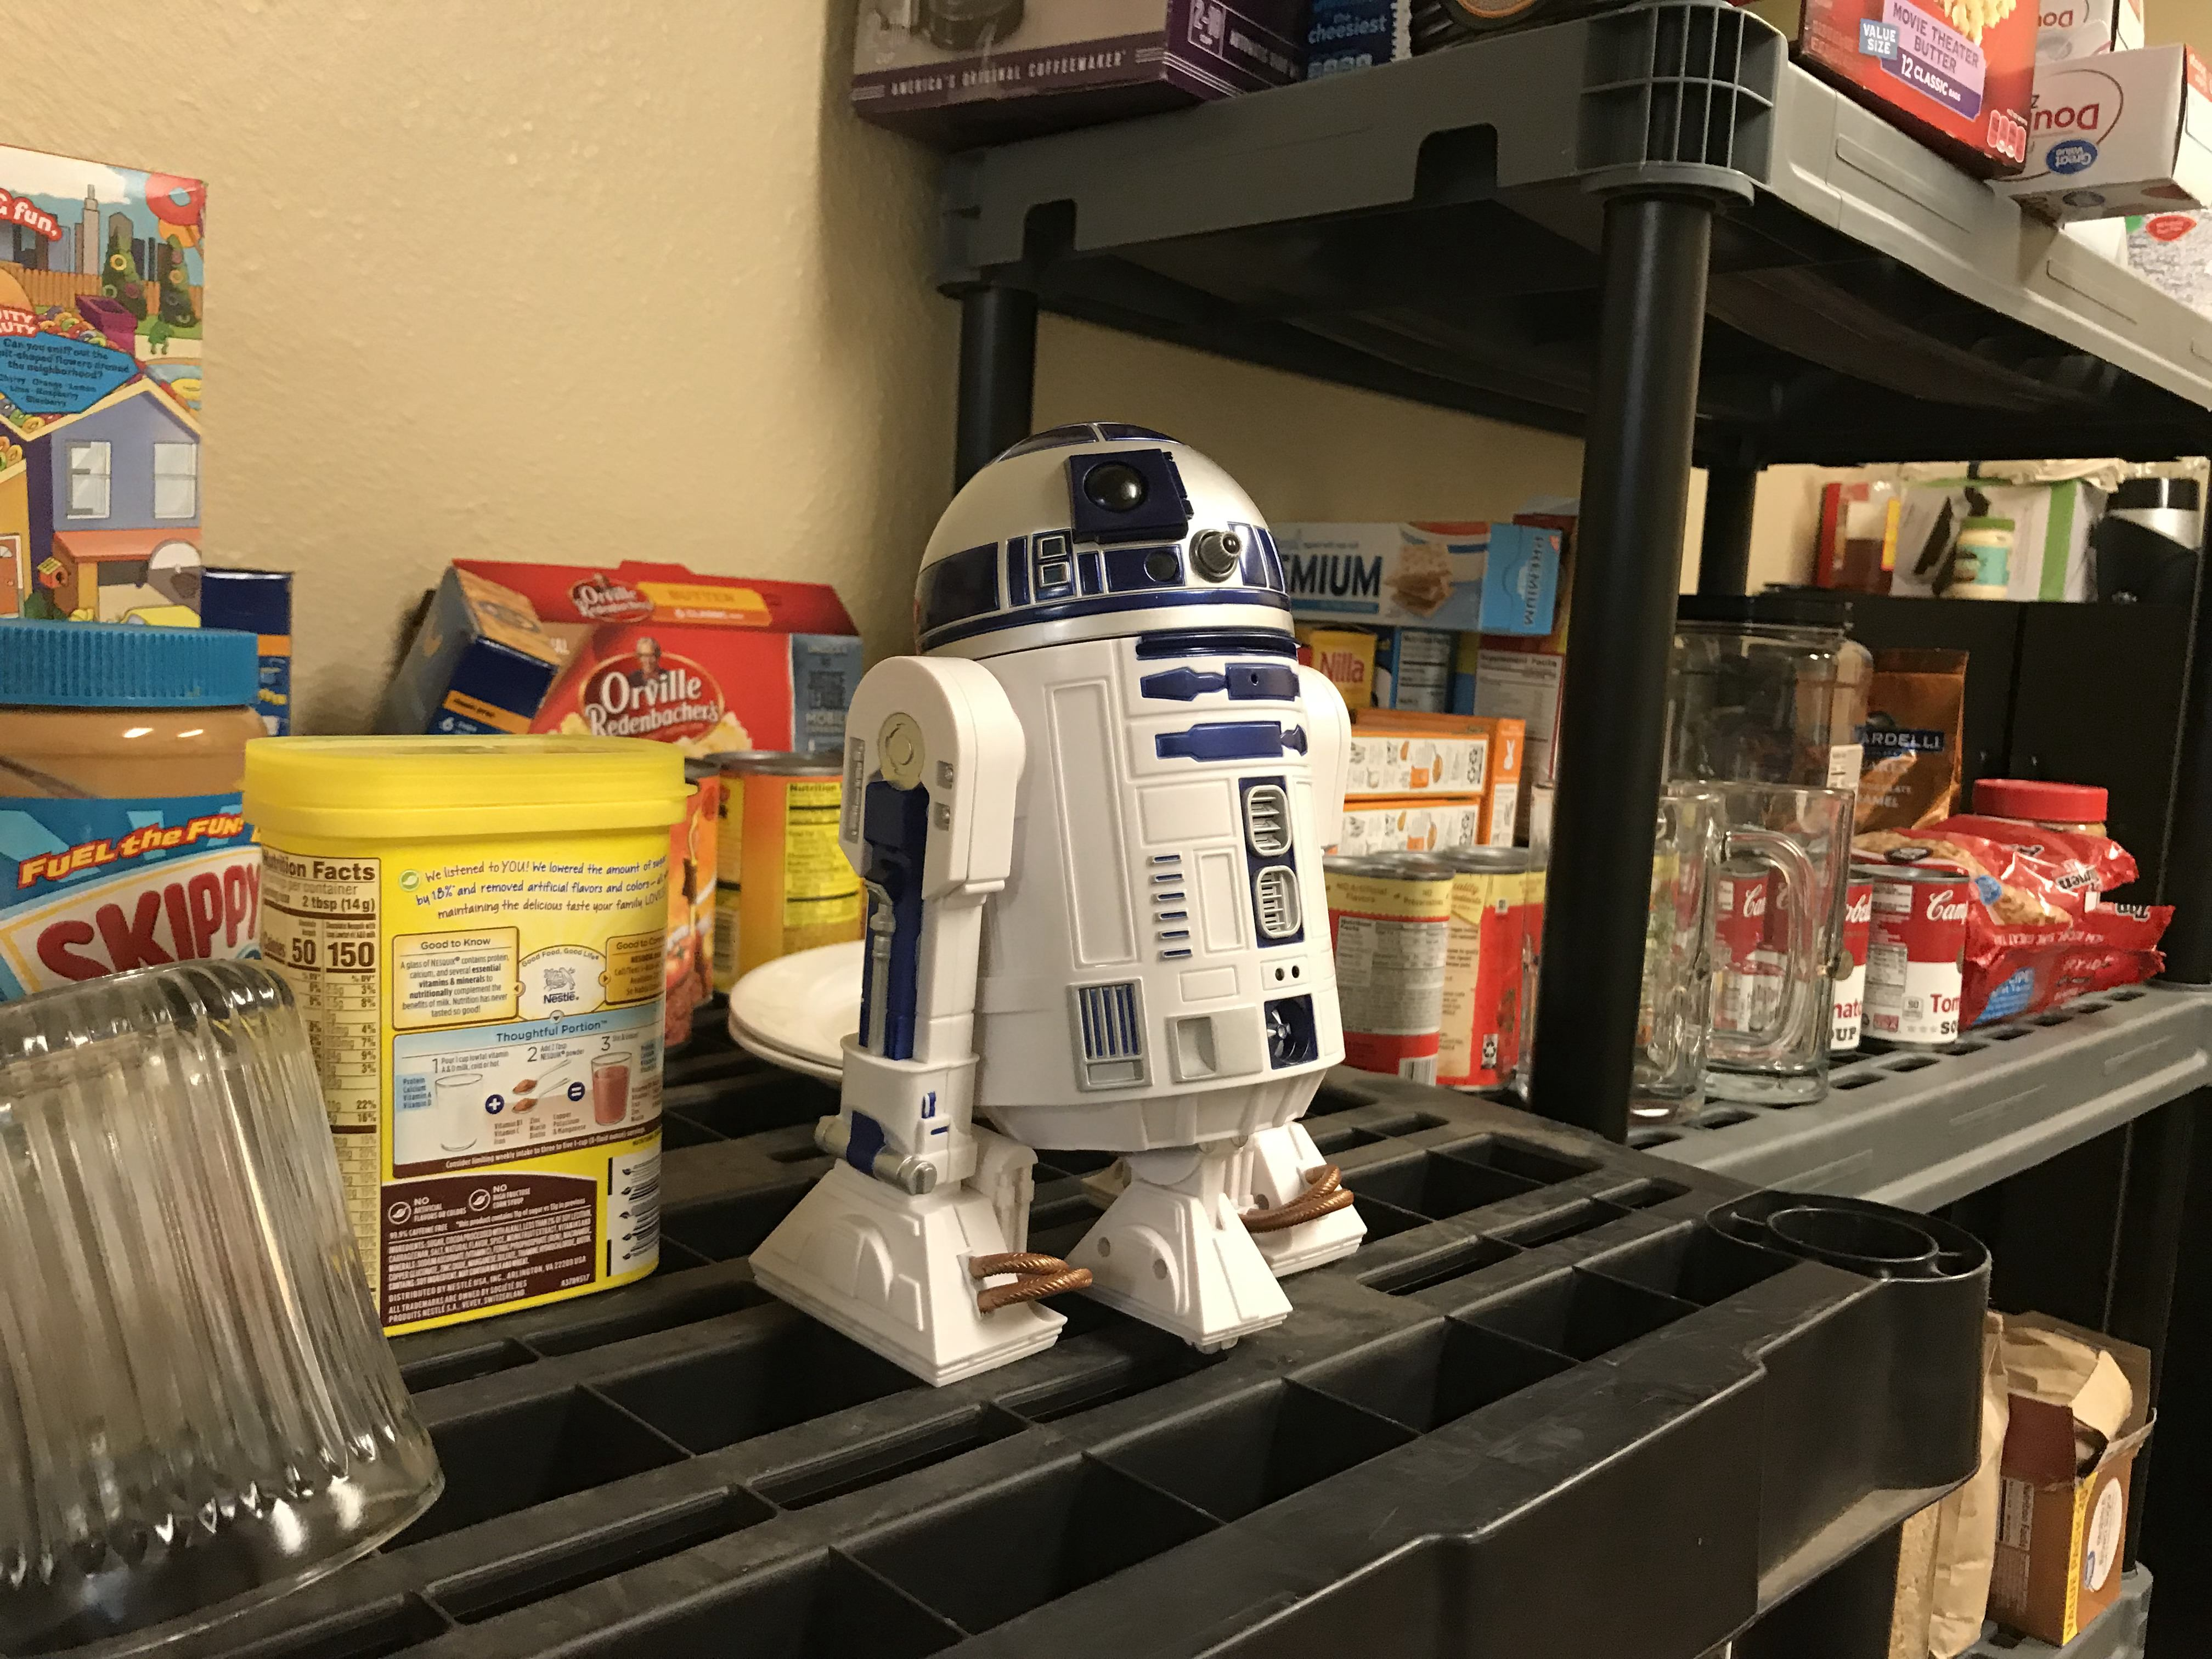r2d2: (745, 420, 1371, 1384)
